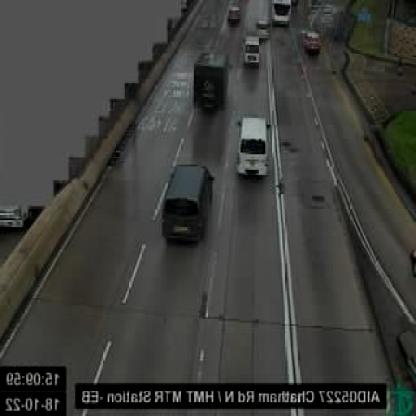Car: (160, 163, 216, 245), (235, 114, 272, 181), (240, 34, 262, 71), (298, 30, 321, 56), (225, 6, 242, 27)
Truck: (193, 51, 229, 116)
